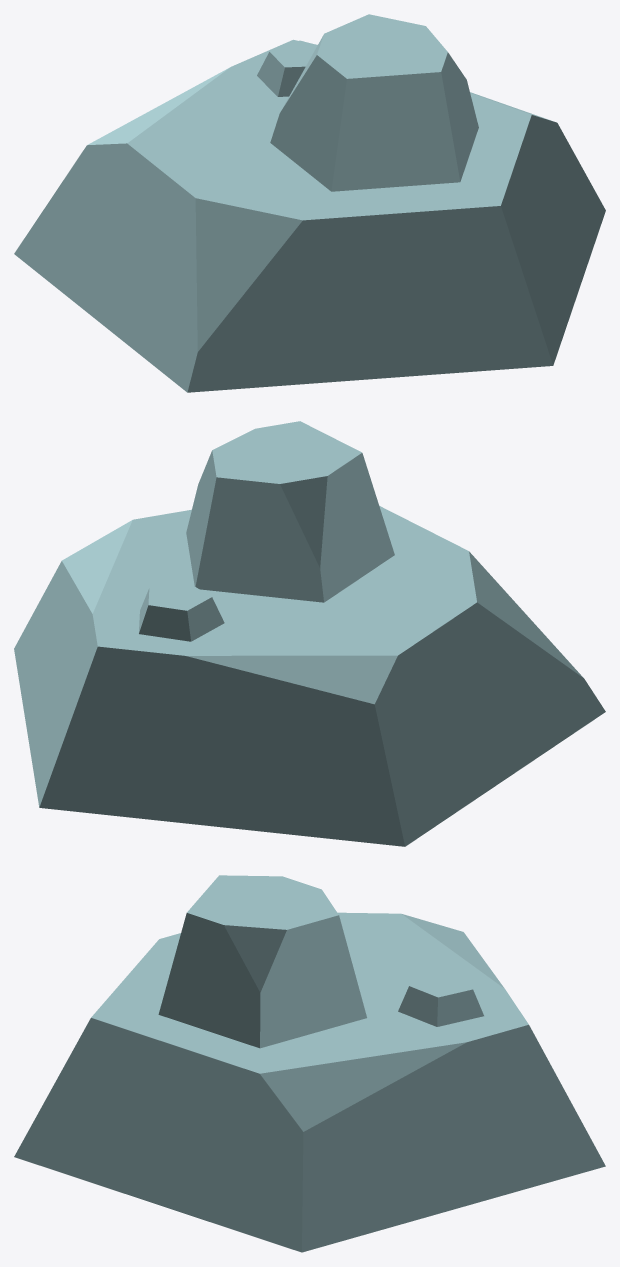
File: stone_smallTop2.obj
The picture shows the model from 3 angles, top to bottom: view 1: azimuth 30°, elevation 25°; view 2: azimuth 150°, elevation 25°; view 3: azimuth 270°, elevation 25°; orthographic projection. The views are drawn at different scales.
Parts seen in each view (by area): view 1: stone_smallTop2; view 2: stone_smallTop2; view 3: stone_smallTop2.
Boxes of the visible parts, x1,y1,x2,y2 form: stone_smallTop2: (14,14,605,392); stone_smallTop2: (14,421,605,846); stone_smallTop2: (14,875,605,1252).
Size of the model in its own units: 6.22 by 2.8 by 6.46.
